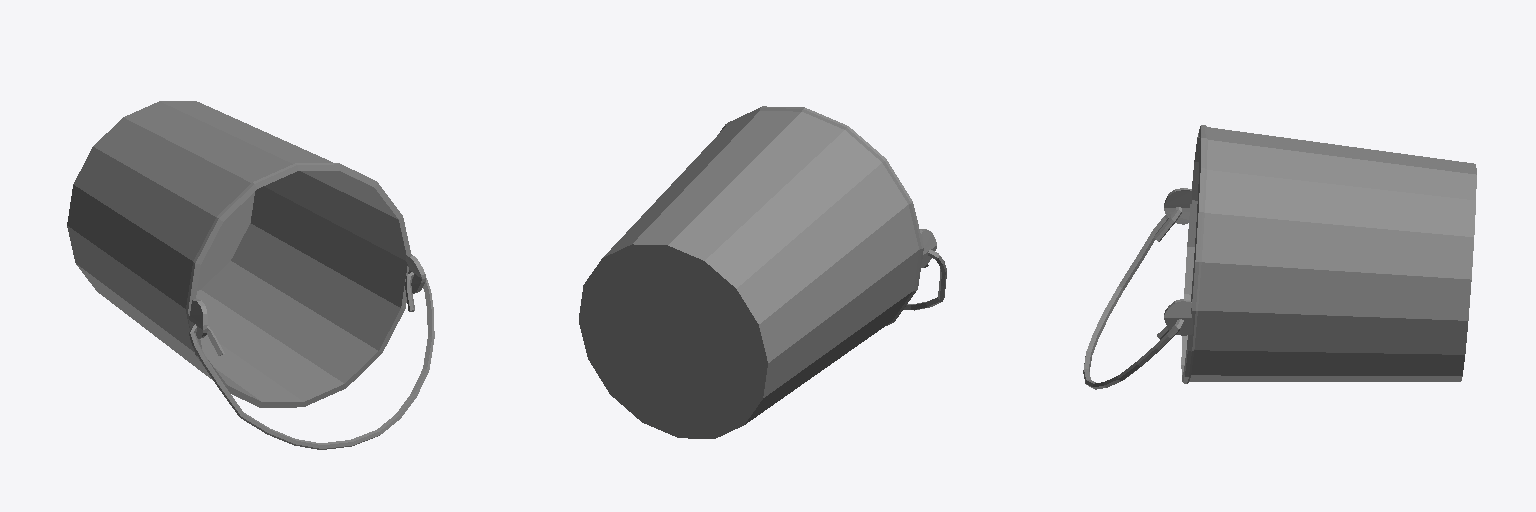
Rendered from bucket.obj.
3 views of the same model, side by side, from view 1: azimuth 30°, elevation 25°; view 2: azimuth 150°, elevation 25°; view 3: azimuth 270°, elevation 25° (orthographic).
Visible parts, largest first — view 1: OBJ_Brush_and_Bucket_Side_Bucket; view 2: OBJ_Brush_and_Bucket_Side_Bucket; view 3: OBJ_Brush_and_Bucket_Side_Bucket.
Part boxes in pixels (bbox=[...]): OBJ_Brush_and_Bucket_Side_Bucket: bbox=[67, 101, 434, 449]; OBJ_Brush_and_Bucket_Side_Bucket: bbox=[579, 106, 946, 438]; OBJ_Brush_and_Bucket_Side_Bucket: bbox=[1083, 125, 1476, 389].
Size of the model in its own units: 36.13 by 34.57 by 51.7.